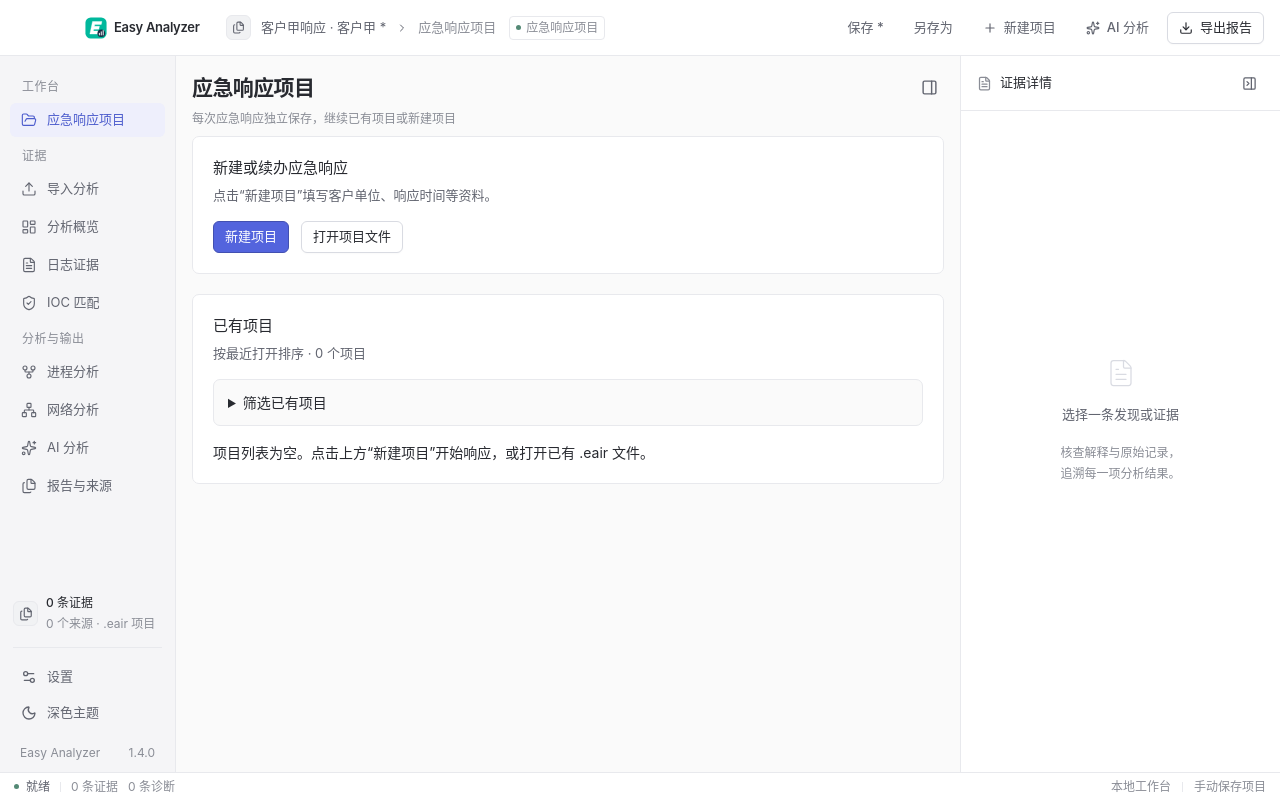
it: protects dirty projects when switching and waits for a successful save
The image size is (1280, 800).
Click the 1st button "新建项目": (1019, 28) [971,12,1068,44]
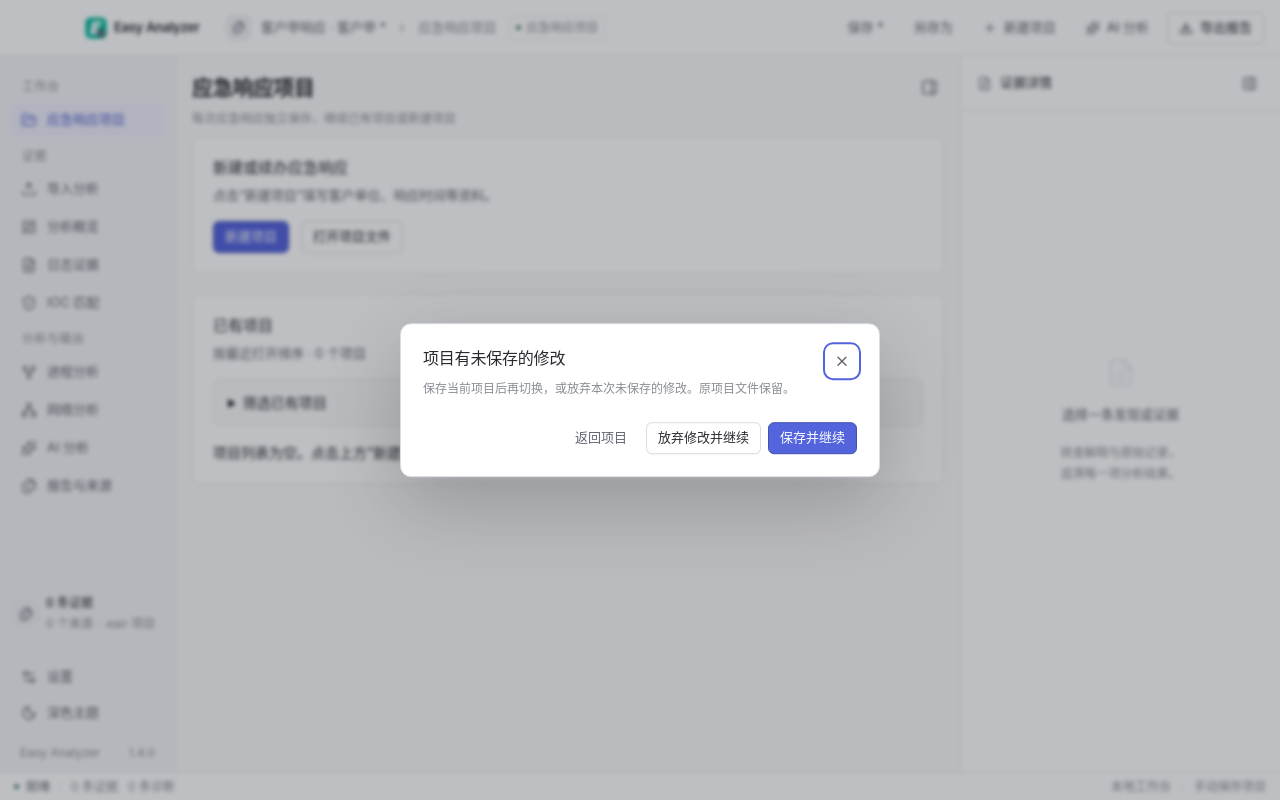
Expected: the heading "项目有未保存的修改" is shown, [423,348,565,368]
Click the button "保存并继续": (812, 438) [768,422,857,454]
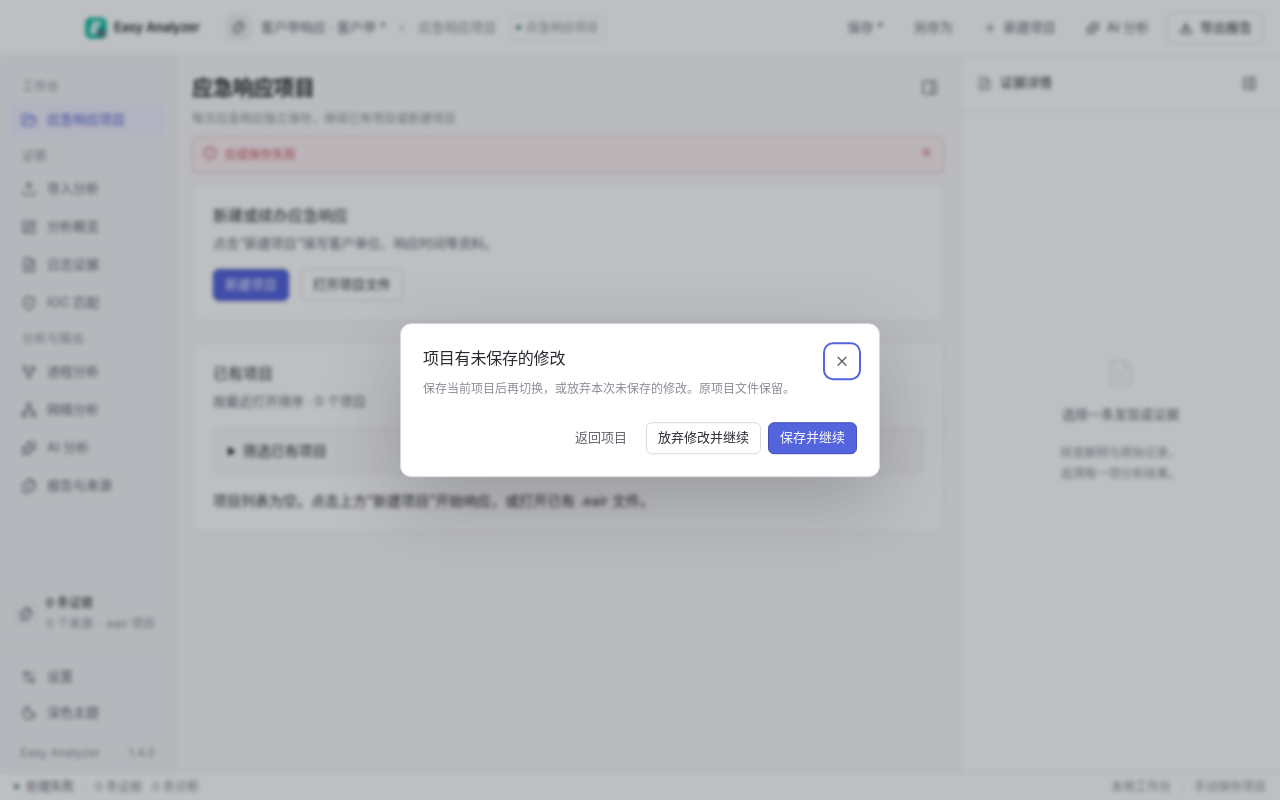
Expected: the text "新建应急响应项目" is not shown
Expected: the heading "项目有未保存的修改" is shown, [423,348,565,368]
Click the button "保存并继续": (812, 438) [768,422,857,454]
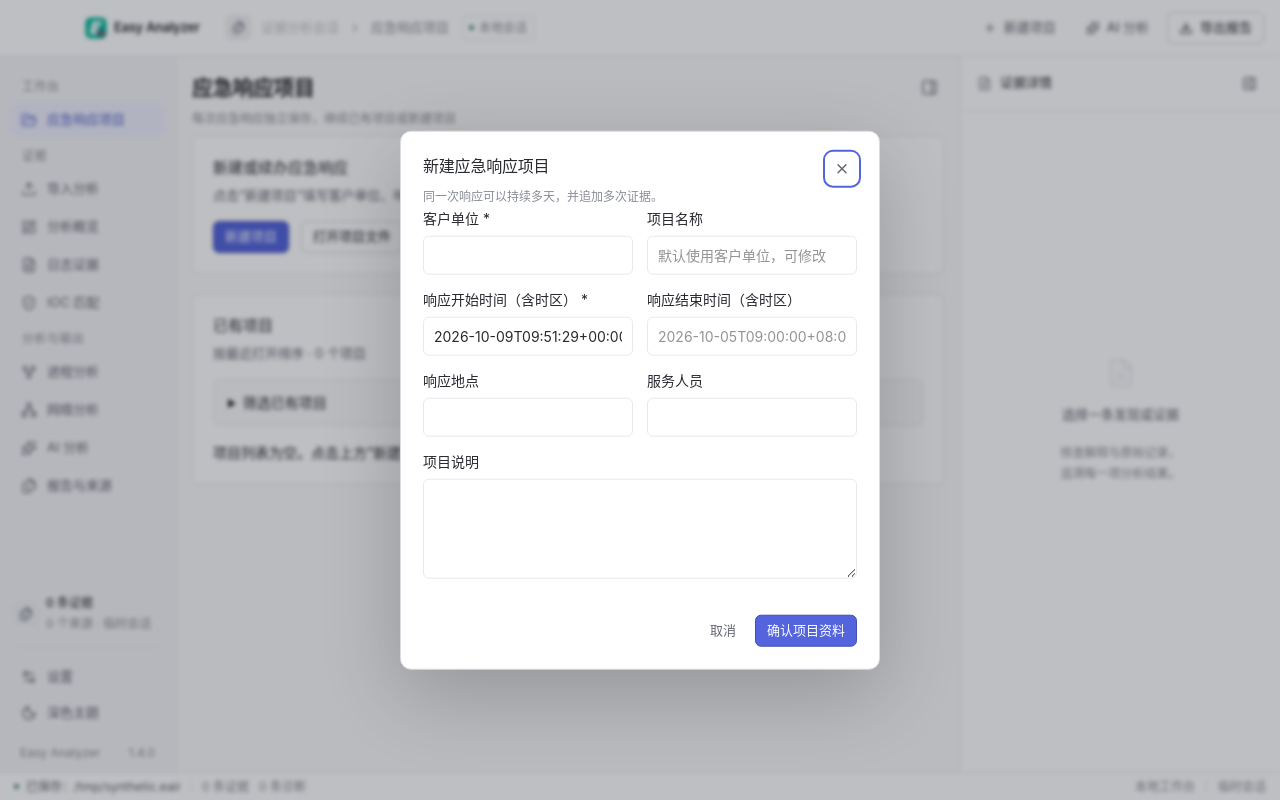
Expected: the heading "新建应急响应项目" is shown, [423,156,549,176]
